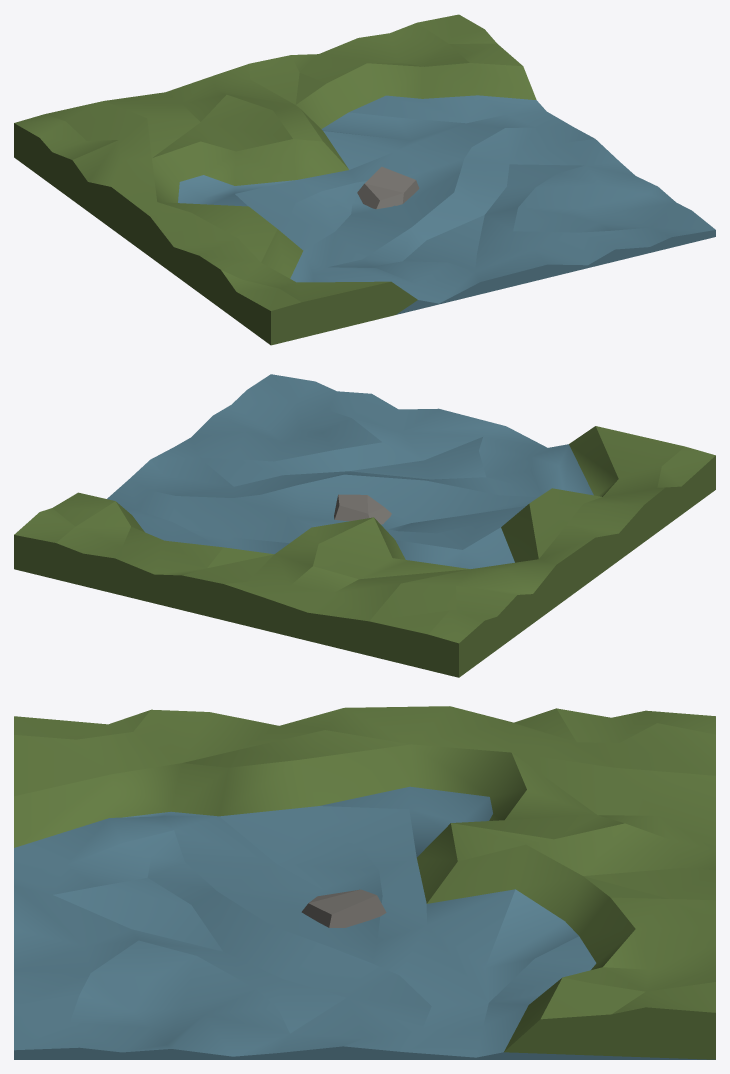
The model's file is Water_Corner_Internal_LU.glb.
3 views of the same model, one above another, from view 1: azimuth 30°, elevation 25°; view 2: azimuth 150°, elevation 25°; view 3: azimuth 270°, elevation 25° (orthographic). The views are drawn at different scales.
Visible parts, largest first — view 1: Water_Corner_Internal_LU; view 2: Water_Corner_Internal_LU; view 3: Water_Corner_Internal_LU.
Part boxes in pixels (bbox=[...]): Water_Corner_Internal_LU: bbox=[14, 14, 715, 345]; Water_Corner_Internal_LU: bbox=[14, 374, 715, 677]; Water_Corner_Internal_LU: bbox=[14, 706, 715, 1059].
Size of the model in its own units: 1.47 by 0.1465 by 1.47.
